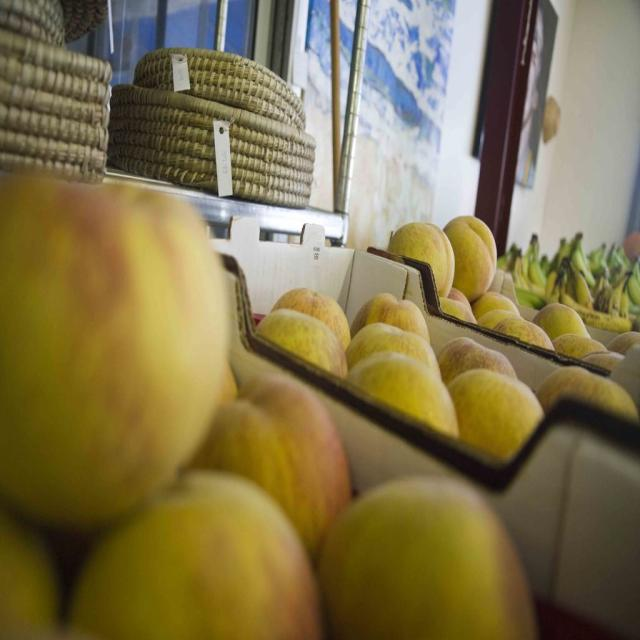Healty Apple: (0, 184, 229, 529), (254, 286, 638, 458), (68, 462, 322, 639), (386, 212, 640, 374), (323, 469, 543, 639), (194, 372, 350, 562), (0, 502, 70, 640)
